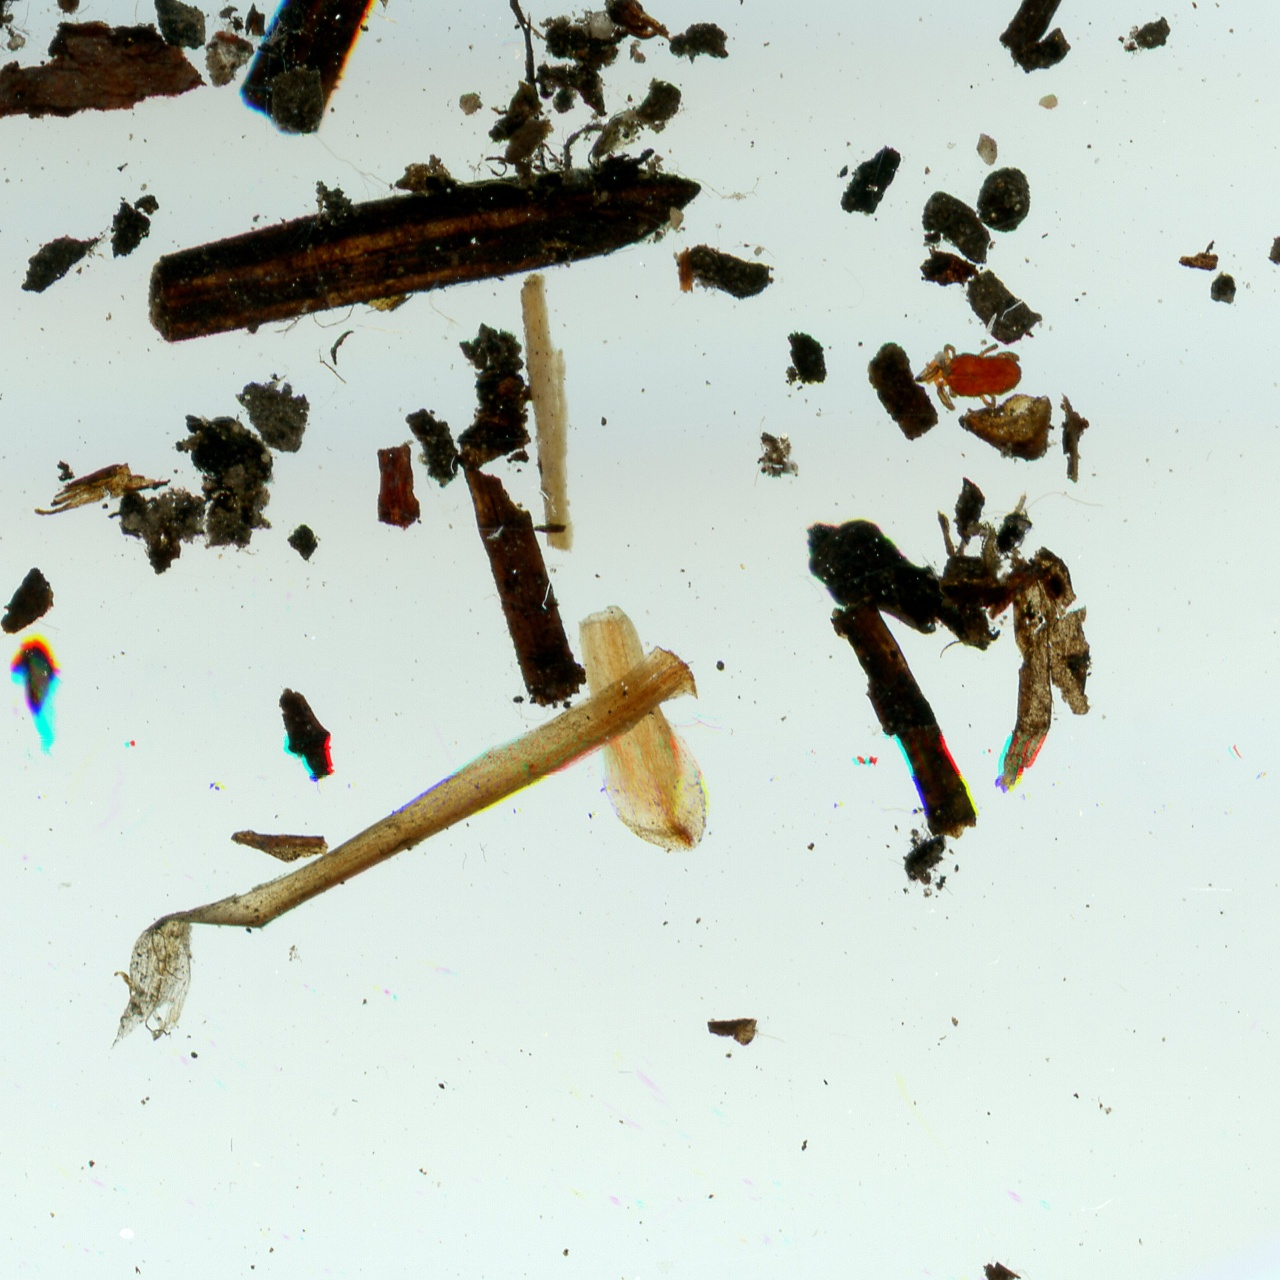arthropod: (912, 339, 1024, 413)
